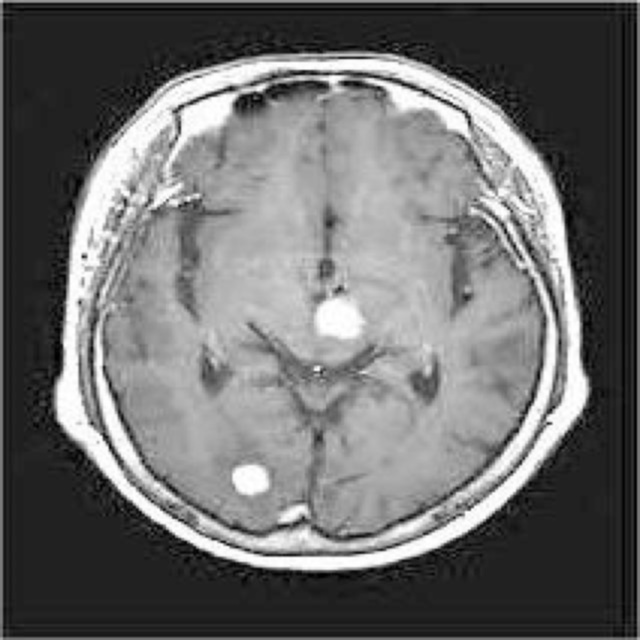glioma tumor: (145, 99, 516, 503)
